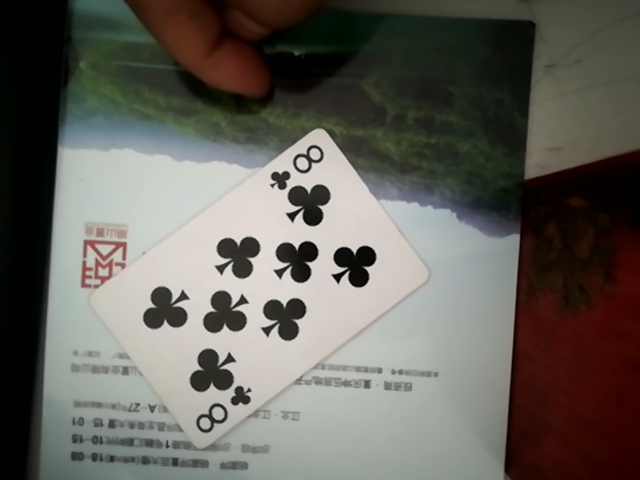mh 8: (77, 126, 424, 441)
